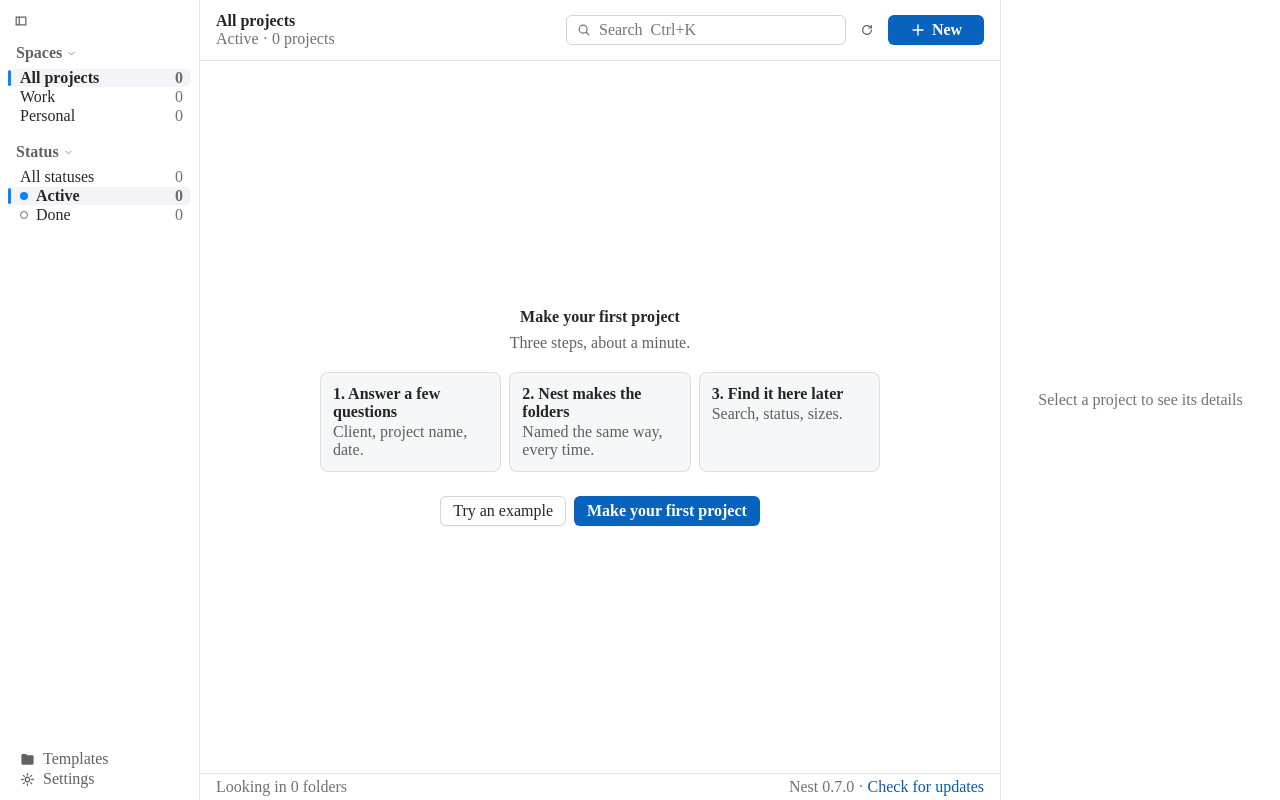
Test case: Main: first steps › never shows the note once Settings says it was seen
This screenshot has width=1280, height=800.
What coordinates should you click on to do the following:
click the button "Try an example"
I would click on:
 (503, 511)
Its box is x1=440 y1=496 x2=566 y2=526.
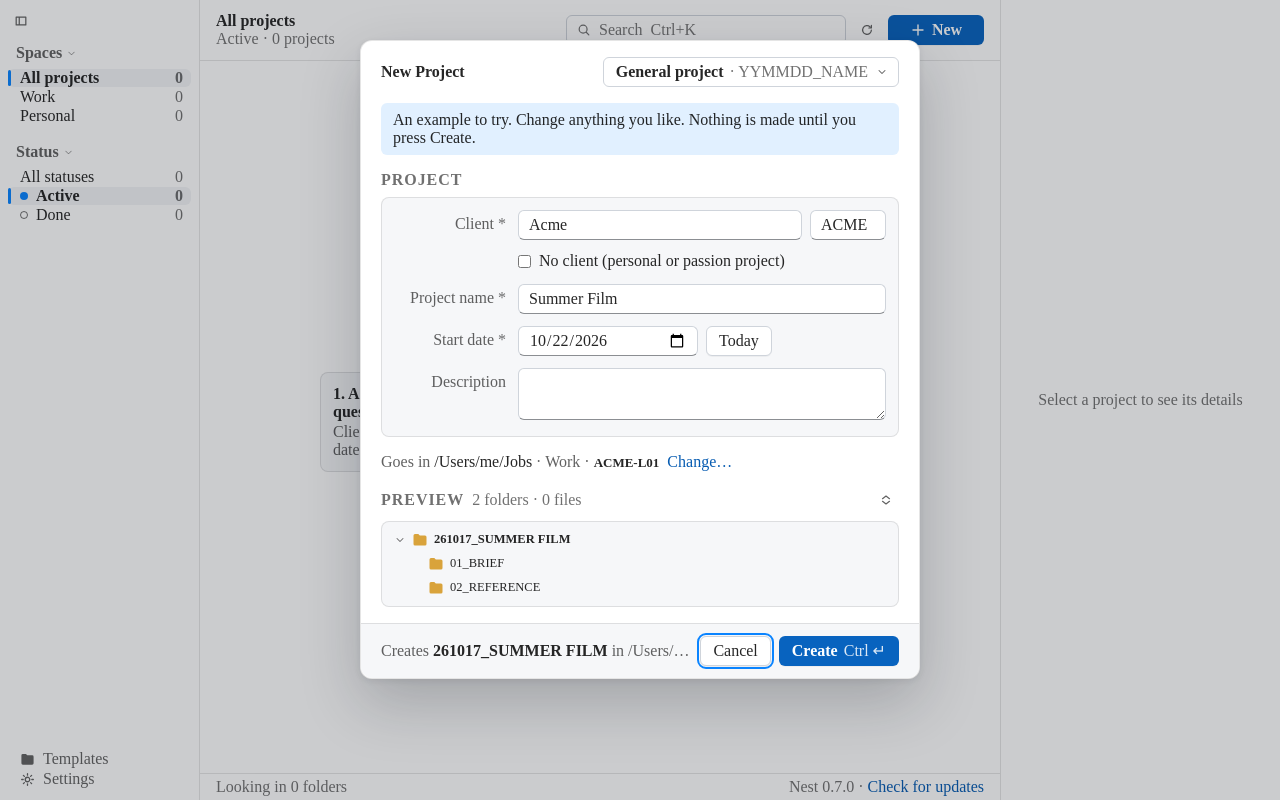
Now the button "Create Ctrl ↵" is enabled
What coordinates should you click on to do the following:
click the button "Create Ctrl ↵"
I would click on:
 (839, 650)
Its box is x1=779 y1=636 x2=899 y2=666.
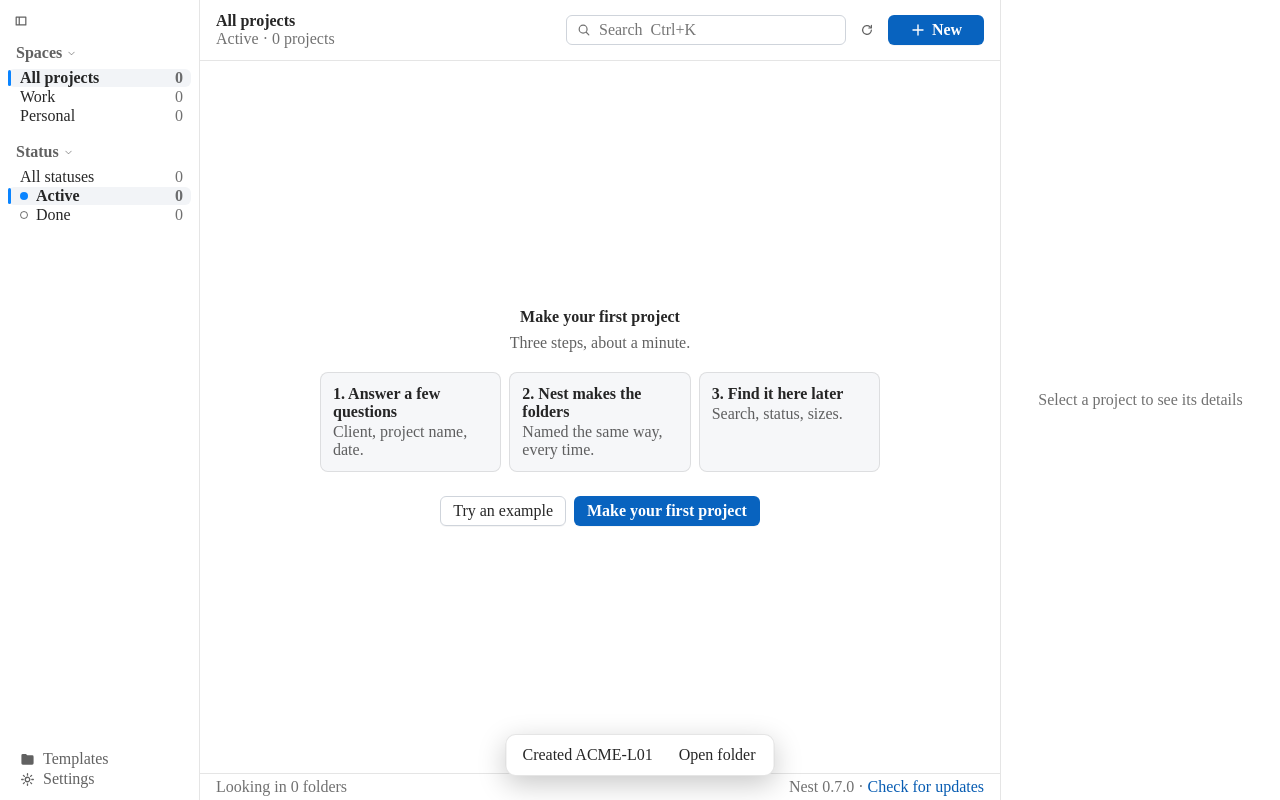
Now the text "Created ACME-L01" is shown, box x1=522 y1=746 x2=653 y2=764
